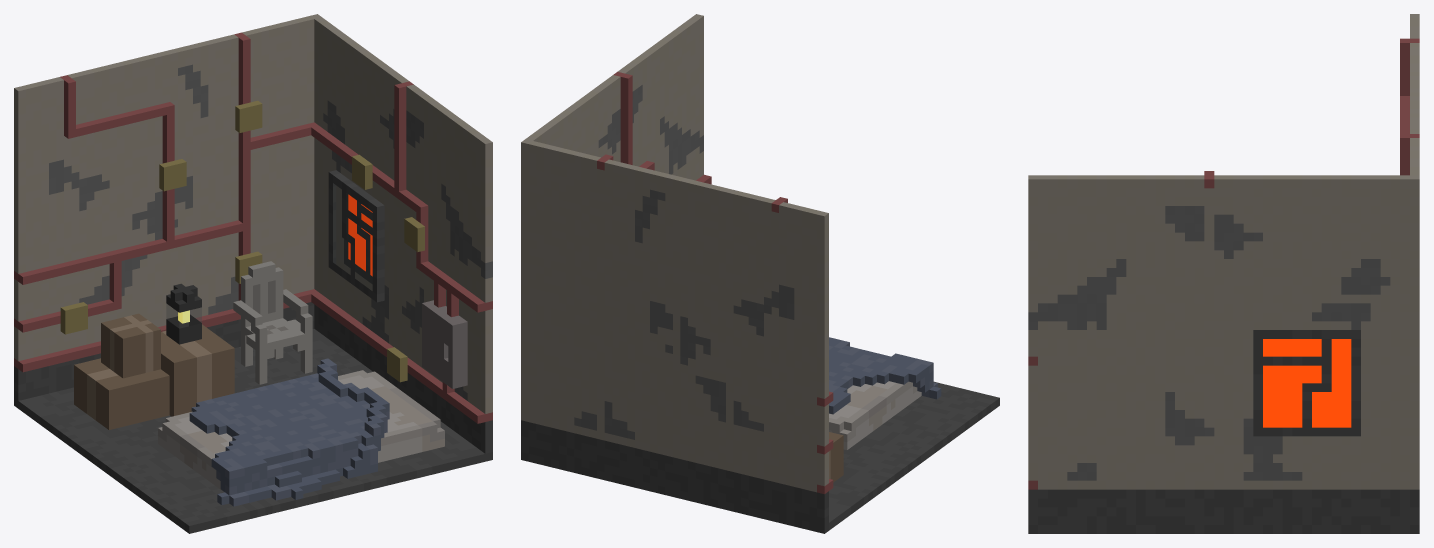
3 renders of one model, left to right at view 1: azimuth 30°, elevation 25°; view 2: azimuth 150°, elevation 25°; view 3: azimuth 270°, elevation 25°, orthographic. The views are drawn at different scales.
Visible parts, largest first — view 1: bunker.005, bunker.002, bunker.003, bunker.004, bunker; view 2: bunker.005, bunker.002, bunker.003; view 3: bunker.005.
Boxes of the visible parts, x1,y1,x2,y2 form: bunker.005: [14, 14, 492, 533]; bunker.002: [158, 358, 444, 506]; bunker.003: [74, 313, 234, 429]; bunker.004: [233, 261, 312, 384]; bunker: [166, 283, 201, 344]; bunker.005: [521, 14, 999, 533]; bunker.002: [829, 337, 941, 449]; bunker.003: [829, 432, 843, 482]; bunker.005: [1028, 14, 1419, 533].
Bounding box in the file's own units: 40 × 40 × 40.
